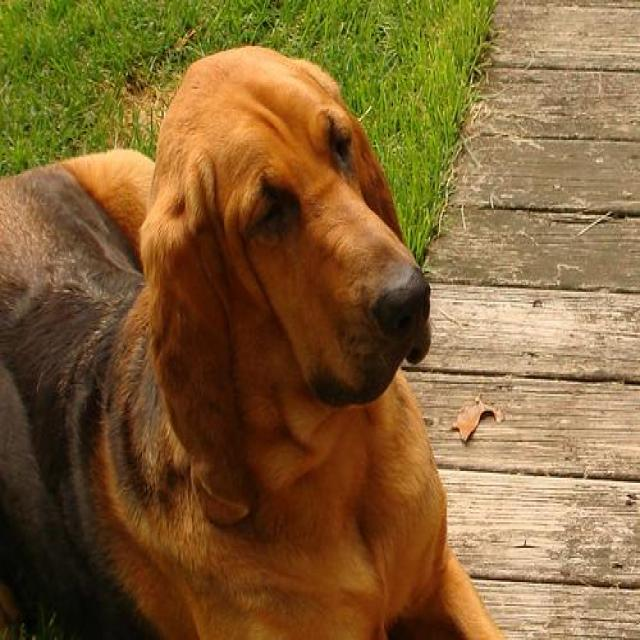bloodhound: (0, 44, 509, 638)
